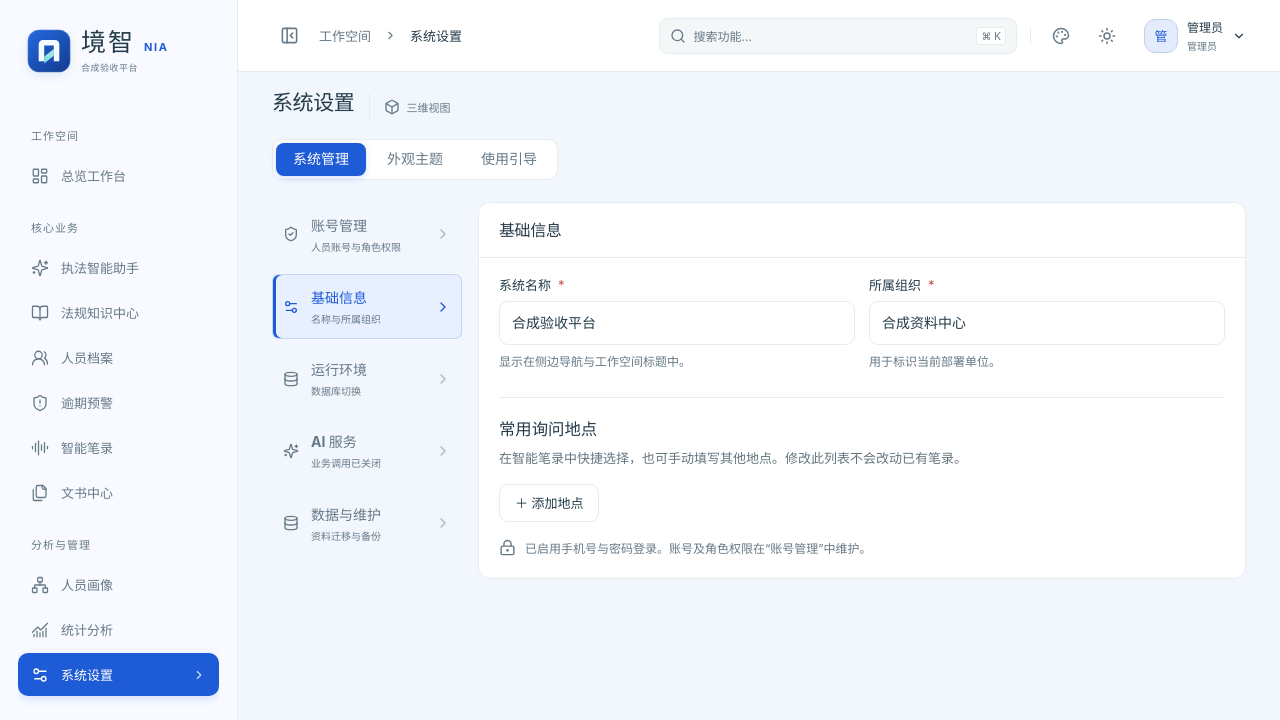
shows save actions only after a settings change and removes them after discard
Expected: the button "保存配置" is not shown
In the field showing "合成验收平台": (677, 323) [499, 301, 855, 345], type "修改"
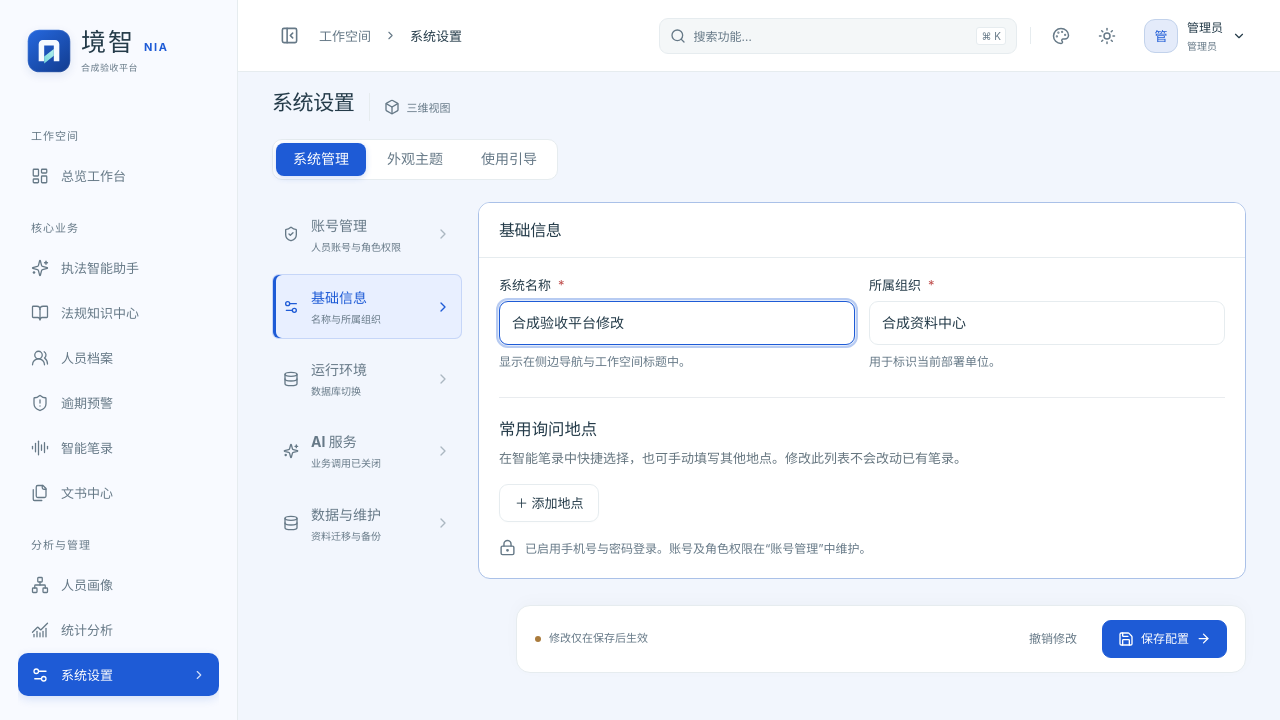
Result: the button "保存配置" is enabled at [1102, 620, 1227, 658]
Click the button "撤销修改": click(1053, 639) [1013, 620, 1093, 658]
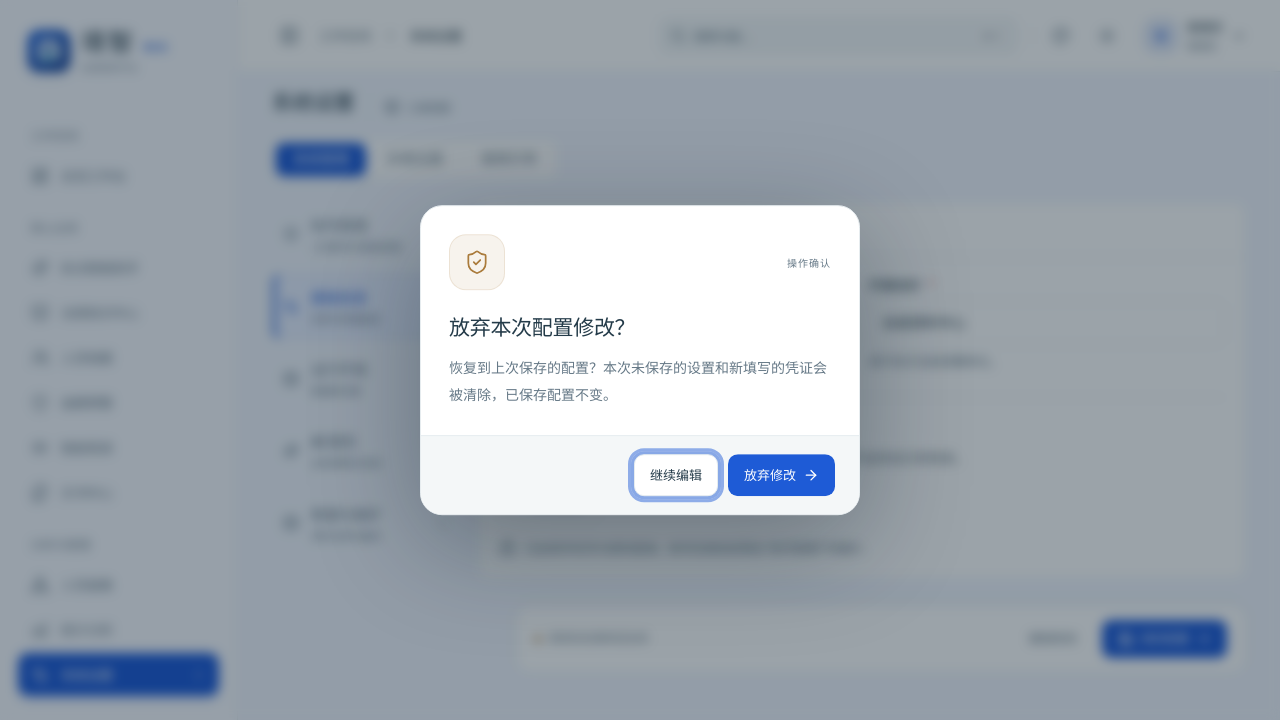
Click the button "放弃修改": click(782, 475) [728, 454, 835, 496]
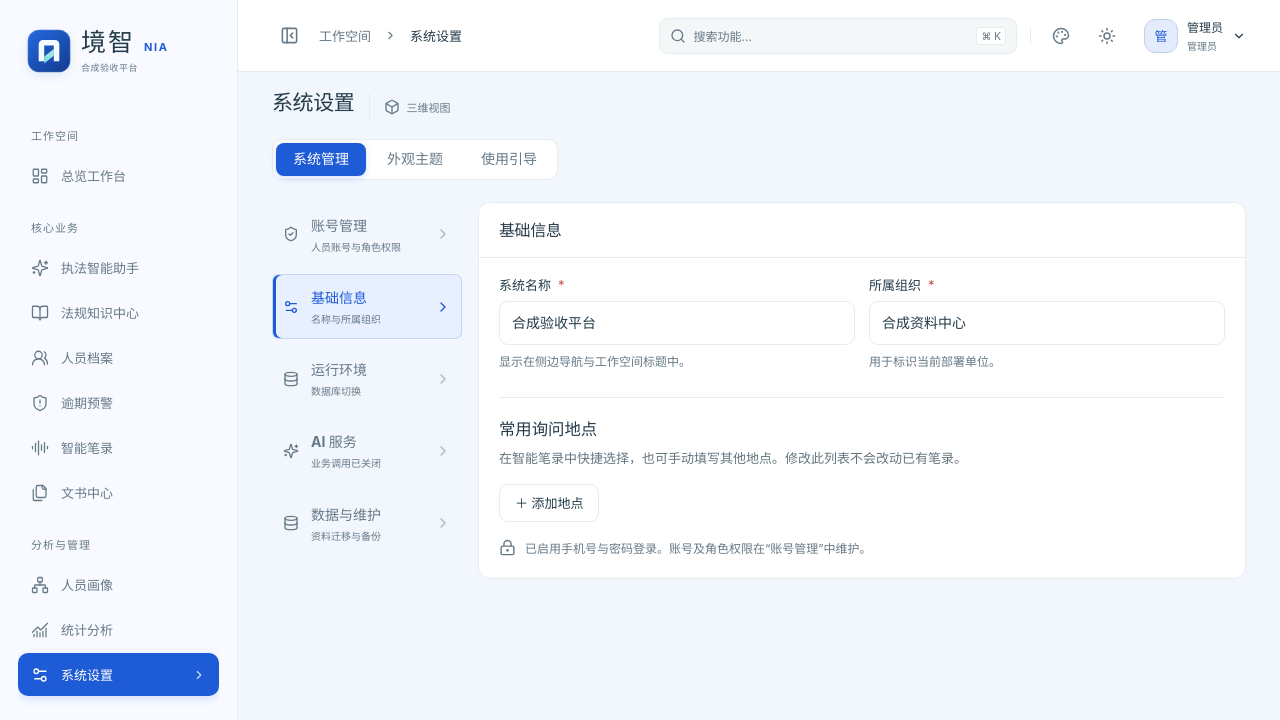
Expected: the field showing "合成验收平台" is shown, [499, 301, 855, 345]
Result: the button "保存配置" is gone
